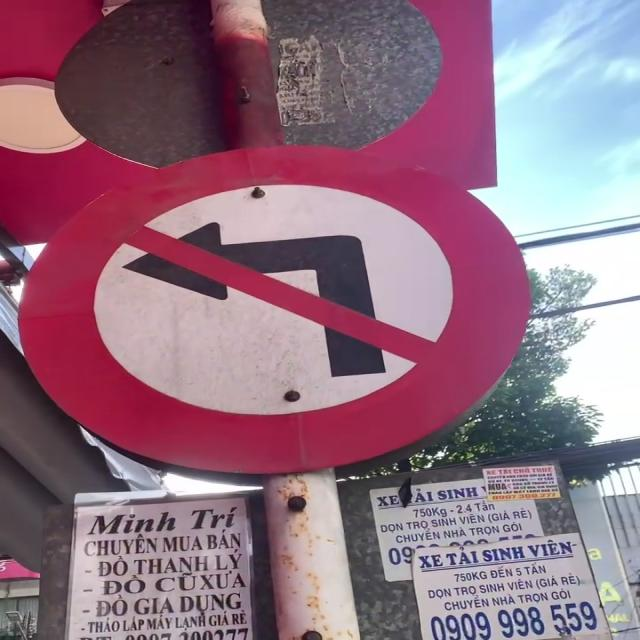Cam_Re_Trai: (16, 146, 532, 473)
